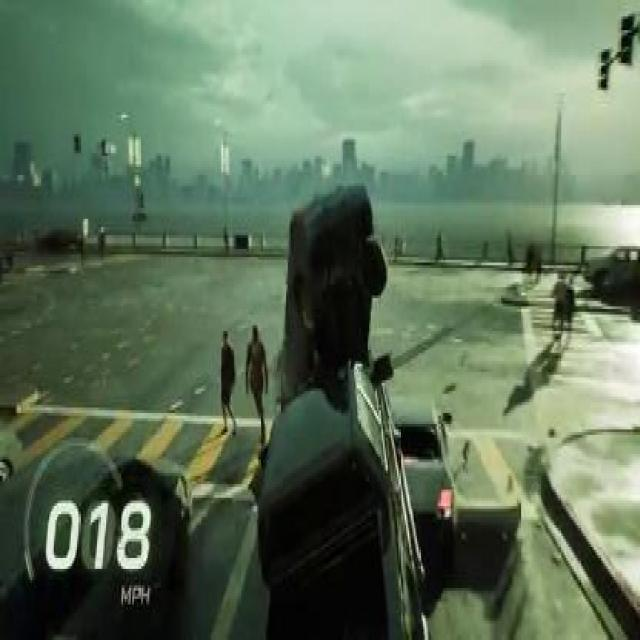accident: (254, 178, 420, 637)
